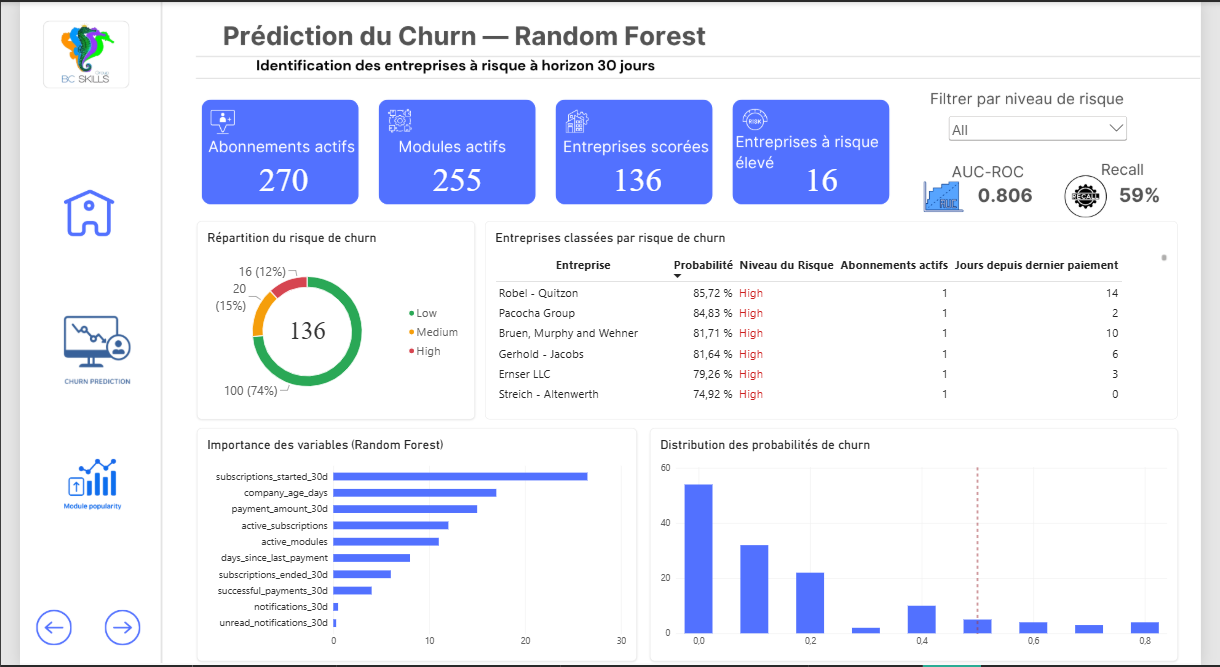

The dashboard page shown, as its layout file describes it:
{"tool":"powerbi","page":{"name":"Prédiction du Churn","canvas":[1920,1080],"ordinal":1},"visuals":[{"type":"slicer","fields":{"Values":["dwh_clean prediction_company_churn.risk_level"]},"box":[1504.3,181.4,300,80],"z":0},{"type":"donutChart","title":"Répartition du risque de churn","fields":{"Category":["dwh_clean prediction_company_churn.risk_level"],"Y":["Count(dwh_clean prediction_company_churn.company_key)"]},"box":[288.6,357.1,452.1,322.9],"z":1000},{"type":"tableEx","title":"Entreprises classées par risque de churn","fields":{"Values":["dwh_clean prediction_company_churn.name","dwh_clean prediction_company_churn.churn_probability","dwh_clean prediction_company_churn.risk_level","Sum(dwh_clean prediction_company_churn.active_subscriptions)","Sum(dwh_clean prediction_company_churn.days_since_last_payment)"]},"box":[757.1,357.1,1126.4,322.9],"z":2000},{"type":"barChart","title":"Importance des variables (Random Forest)","fields":{"Category":["FeatureImportance.Feature"],"Y":["Sum(FeatureImportance.Importance)"]},"box":[288.6,693.6,715,379.3],"z":3000},{"type":"card","fields":{"Values":["Sum(dwh_clean prediction_company_churn.active_subscriptions)"]},"box":[355.3,243.4,145.1,84.7],"z":4000},{"type":"card","fields":{"Values":["Sum(dwh_clean prediction_company_churn.active_modules)"]},"box":[624.4,241.9,173.9,87.7],"z":5000},{"type":"card","fields":{"Values":["Count(dwh_clean prediction_company_churn.company_key)"]},"box":[914.6,241.9,178.4,87.7],"z":6000},{"type":"card","fields":{"Values":["dwh_clean prediction_company_churn.At Risk High"]},"box":[1217,231.3,172.3,108.9],"z":7000},{"type":"clusteredColumnChart","title":"Distribution des probabilités de churn","fields":{"Category":["dwh_clean prediction_company_churn.churn_probability (bins)"],"Y":["Count(dwh_clean prediction_company_churn.company_key)"]},"box":[1025,693.6,858.6,379.3],"z":8000},{"type":"actionButton","box":[58.9,243.7,99.8,72],"z":9000},{"type":"actionButton","box":[135.8,987.5,59.2,64.2],"z":10000},{"type":"actionButton","box":[28,988,59.2,64.2],"z":11000},{"type":"actionButton","box":[58,732,108,106],"z":12000},{"type":"actionButton","box":[58,300,100,92],"z":13000}]}

Visuals, with their boxes on the page's 1920x1080 design canvas (x1, y1, x2, y2). These are canvas units, not pixel positions in the 1220x667 screenshot, which may show the page scaled, cropped or inside an application window:
slicer - dwh_clean prediction_company_churn.risk_level: (x1=1504, y1=181, x2=1804, y2=261)
"Répartition du risque de churn" donutChart: (x1=289, y1=357, x2=741, y2=680)
"Entreprises classées par risque de churn" tableEx: (x1=757, y1=357, x2=1884, y2=680)
"Importance des variables (Random Forest)" barChart: (x1=289, y1=694, x2=1004, y2=1073)
card - Sum(dwh_clean prediction_company_churn.active_subscriptions): (x1=355, y1=243, x2=500, y2=328)
card - Sum(dwh_clean prediction_company_churn.active_modules): (x1=624, y1=242, x2=798, y2=330)
card - Count(dwh_clean prediction_company_churn.company_key): (x1=915, y1=242, x2=1093, y2=330)
card - dwh_clean prediction_company_churn.At Risk High: (x1=1217, y1=231, x2=1389, y2=340)
"Distribution des probabilités de churn" clusteredColumnChart: (x1=1025, y1=694, x2=1884, y2=1073)
actionButton: (x1=59, y1=244, x2=159, y2=316)
actionButton: (x1=136, y1=988, x2=195, y2=1052)
actionButton: (x1=28, y1=988, x2=87, y2=1052)
actionButton: (x1=58, y1=732, x2=166, y2=838)
actionButton: (x1=58, y1=300, x2=158, y2=392)
